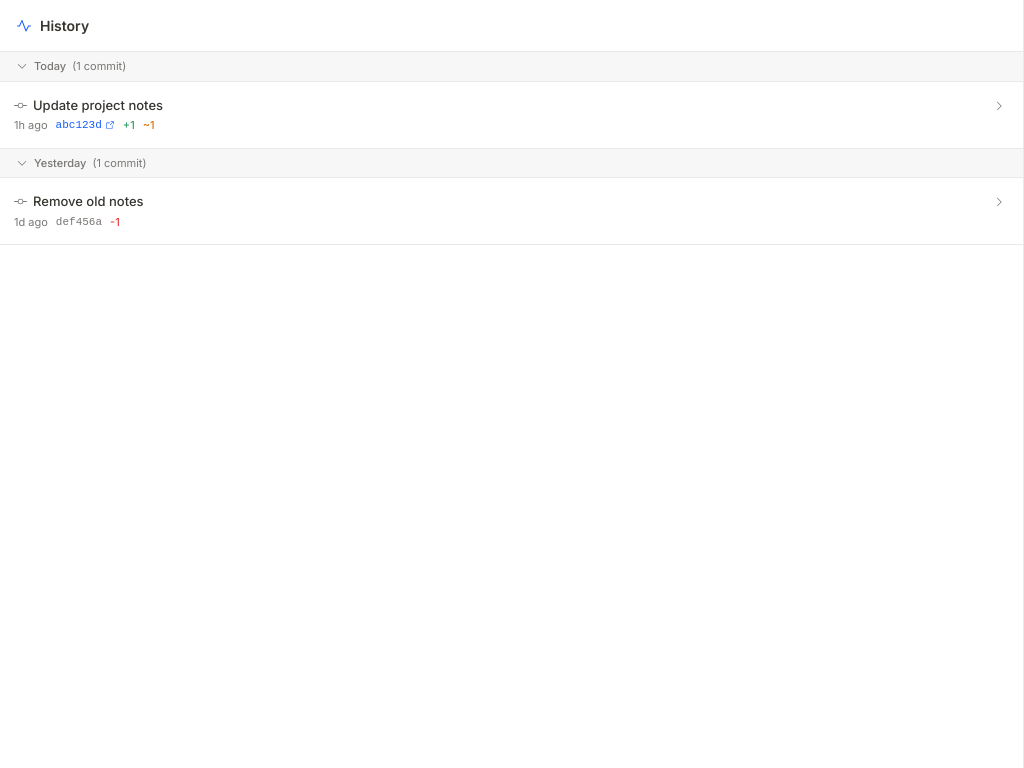
Scenario: PulseView › renders file list with correct titles when expanded
Click the 1st button named "Expand files" at (999, 106), box x1=989 y1=96 x2=1009 y2=116
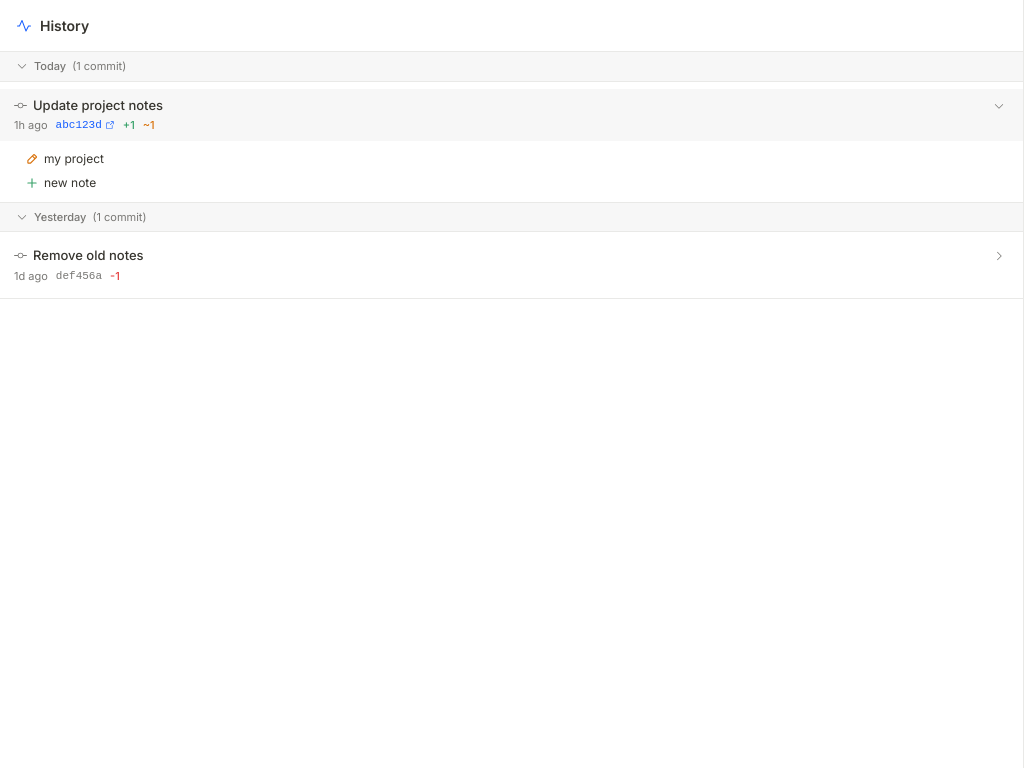
Click the button named "Expand files" at (999, 256), box x1=989 y1=246 x2=1009 y2=266
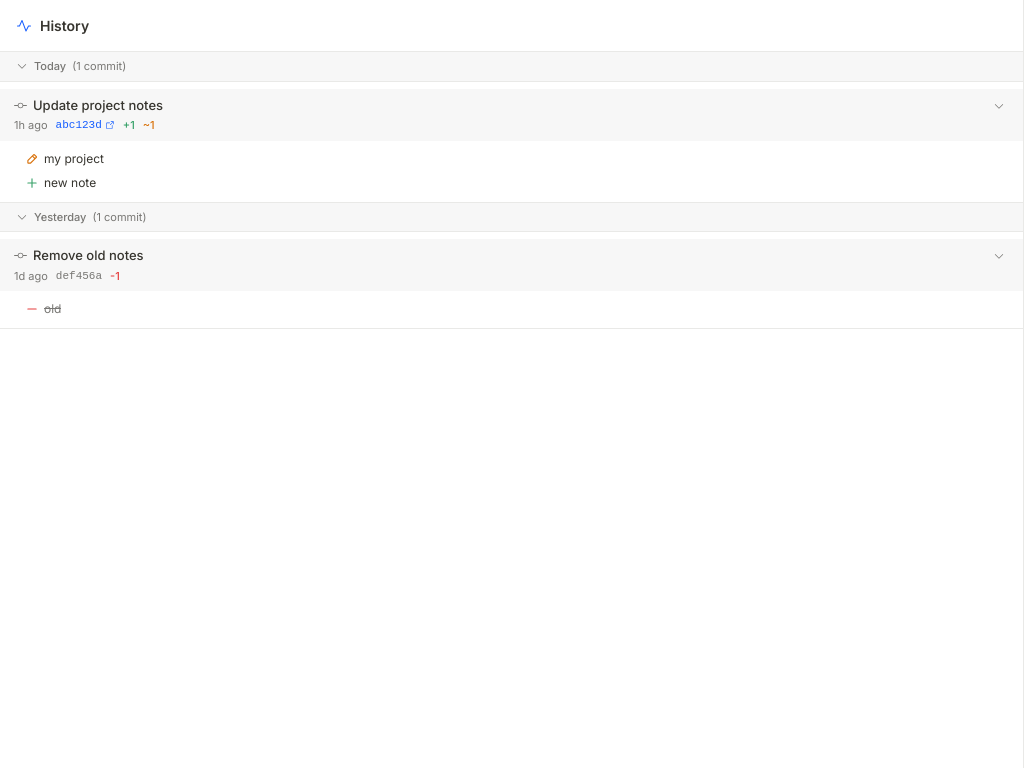
Now the text "my project" is shown, box x1=44 y1=150 x2=104 y2=168
Now the text "new note" is shown, box x1=44 y1=174 x2=96 y2=192
Now the text "old" is shown, box x1=44 y1=300 x2=62 y2=318
